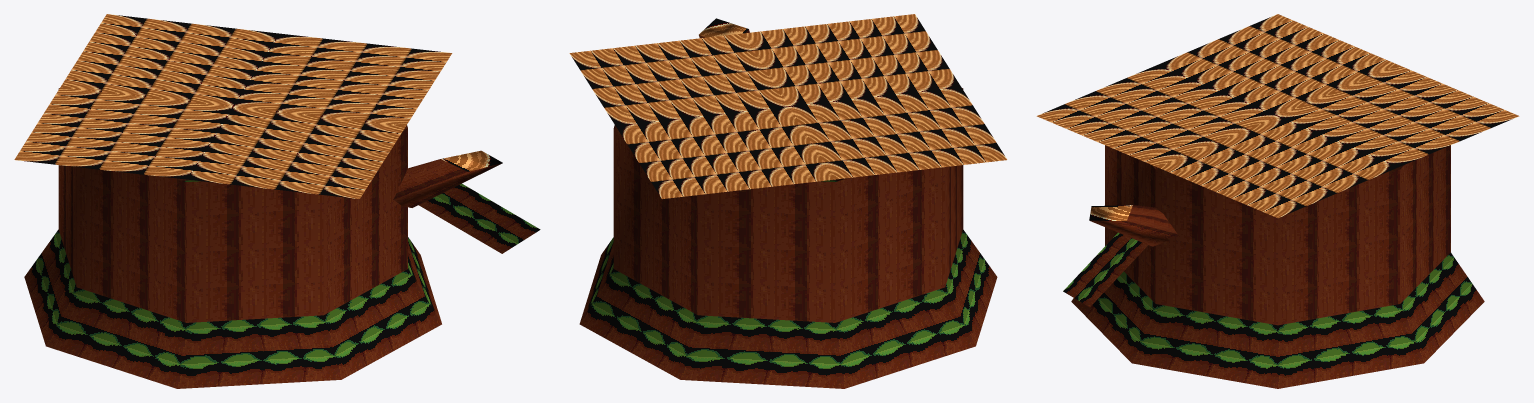
Rendered from 3182IMFY06_04.gltf.
3 renders of one model, left to right at view 1: azimuth 30°, elevation 25°; view 2: azimuth 150°, elevation 25°; view 3: azimuth 270°, elevation 25°, orthographic. The views are drawn at different scales.
Parts seen in each view (by area): view 1: 3182IMFY06_04; view 2: 3182IMFY06_04; view 3: 3182IMFY06_04.
Boxes of the visible parts, bbox=[...] form: 3182IMFY06_04: bbox=[14, 14, 540, 388]; 3182IMFY06_04: bbox=[569, 14, 1007, 388]; 3182IMFY06_04: bbox=[1036, 14, 1519, 388].
Bounding box in the file's own units: 1.04 × 0.4402 × 1.04.
Materials: 3 (3 with a texture image).
